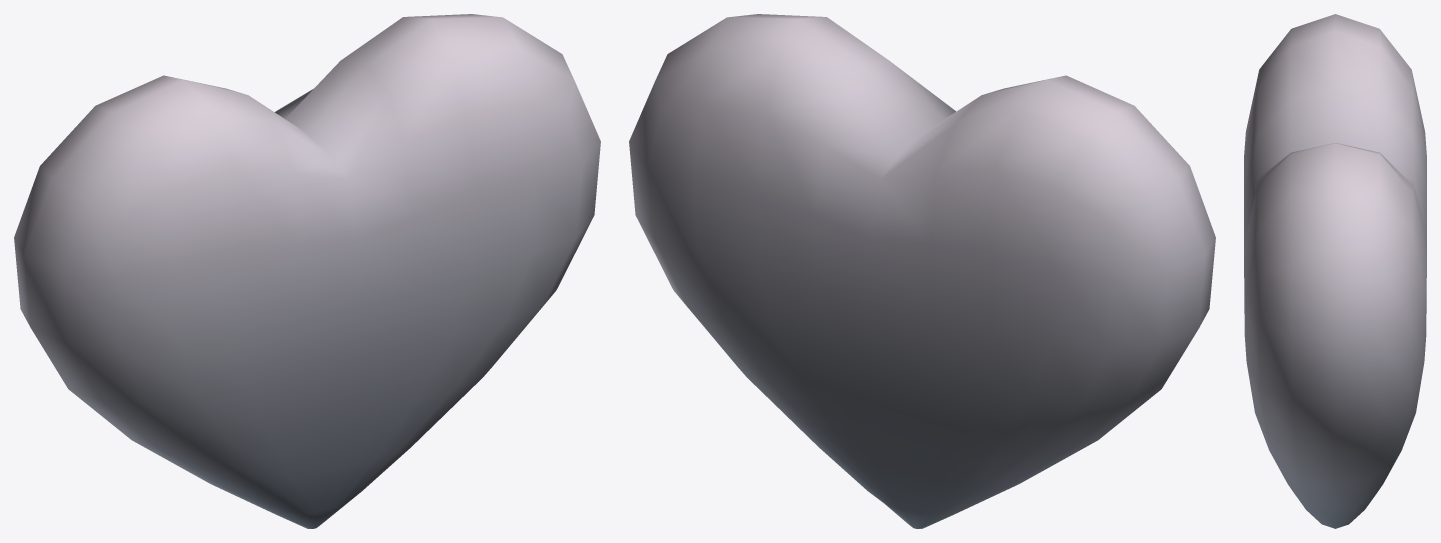
Rendered from Heart.fbx.
The picture shows the model from 3 angles, left to right: view 1: azimuth 30°, elevation 25°; view 2: azimuth 150°, elevation 25°; view 3: azimuth 270°, elevation 25°; orthographic projection. The views are drawn at different scales.
Parts seen in each view (by area): view 1: Heart; view 2: Heart; view 3: Heart.
Boxes of the visible parts, x1=… form: Heart: x1=14, y1=14, x2=600, y2=528; Heart: x1=629, y1=14, x2=1215, y2=528; Heart: x1=1244, y1=14, x2=1426, y2=528.
Size of the model in its own units: 262 by 212 by 79.61.
